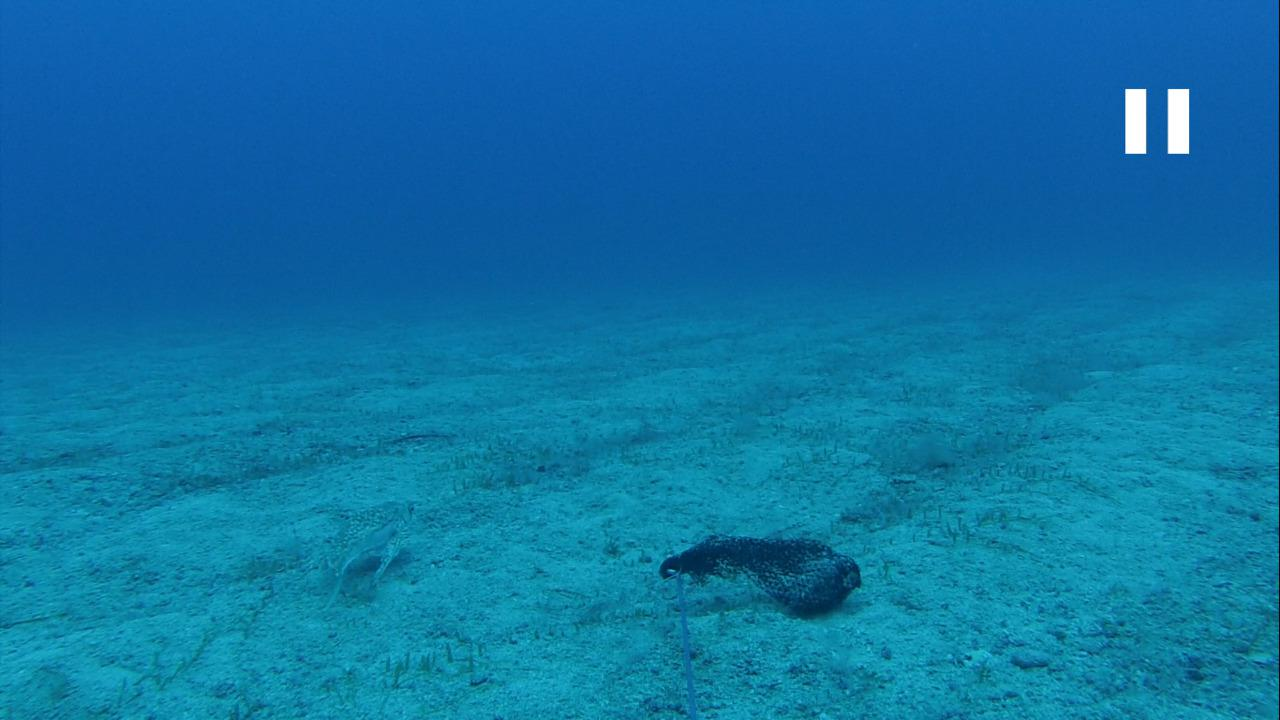dactylopterus: (294, 494, 428, 604)
